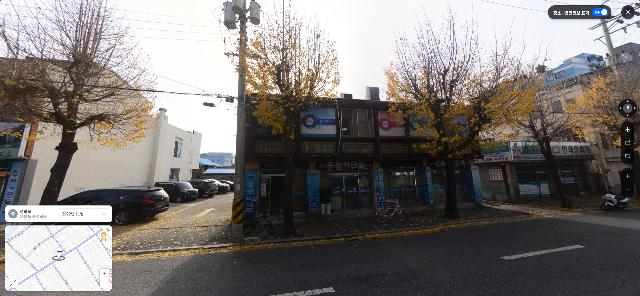ginkgo: (382, 1, 537, 220), (1, 1, 159, 206), (223, 1, 340, 236), (495, 39, 607, 208)
